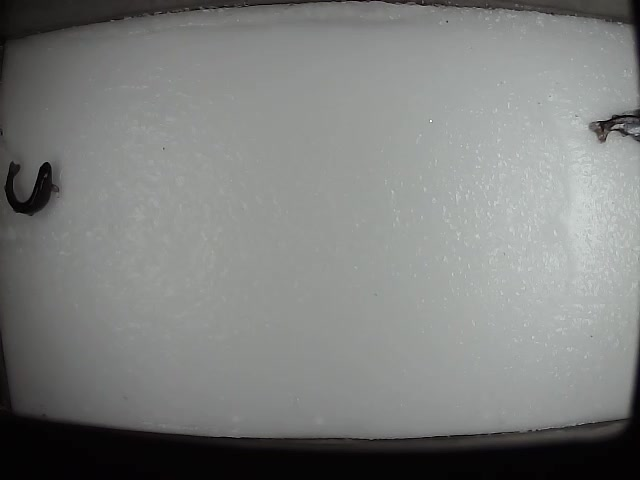Fish: (4, 162, 58, 216)
